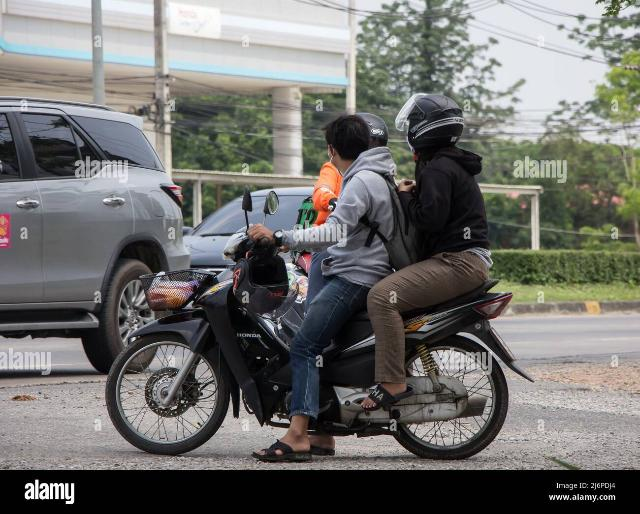helm: (396, 94, 465, 149)
motor: (107, 188, 534, 460)
non-helm: (327, 116, 371, 173)
